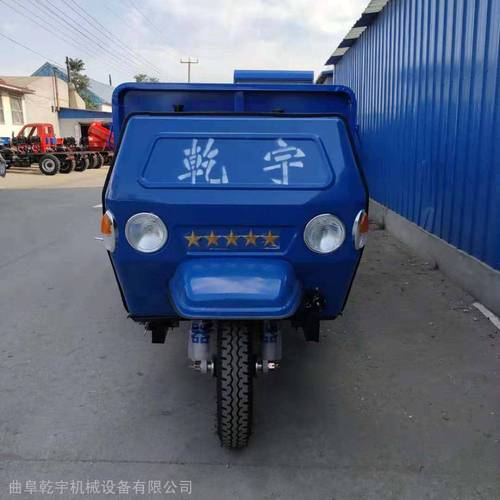empty: (91, 69, 408, 457)
